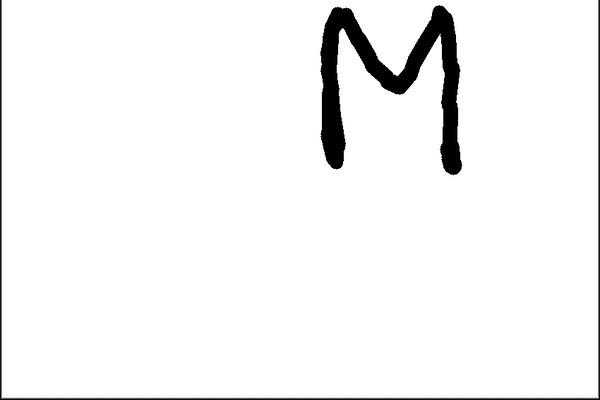M: (315, 4, 466, 173)
